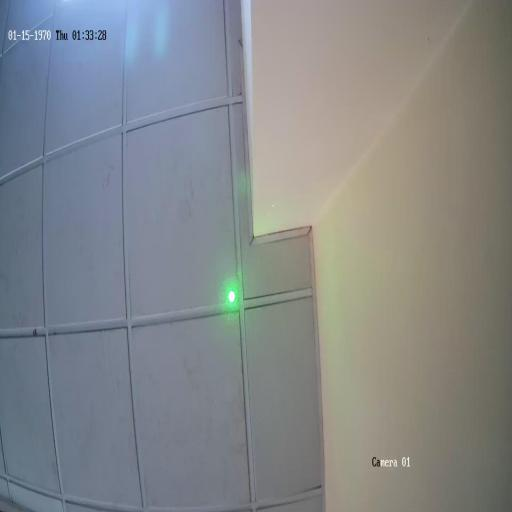laser: (219, 276, 244, 320)
